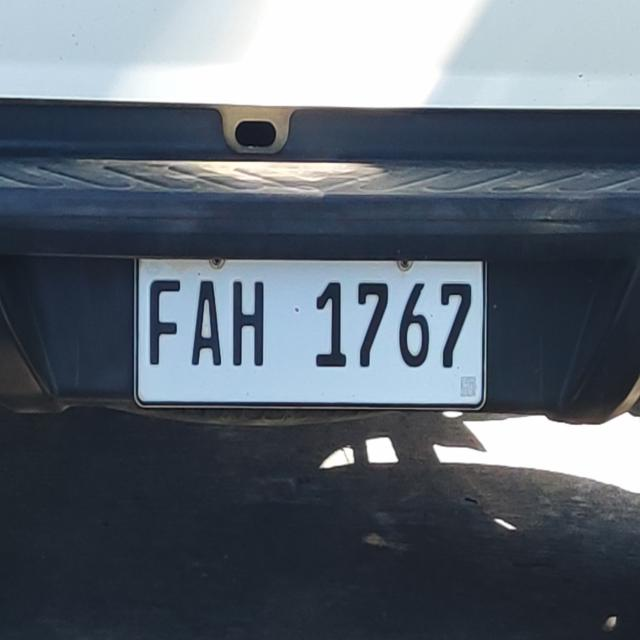plate: (127, 249, 493, 417)
